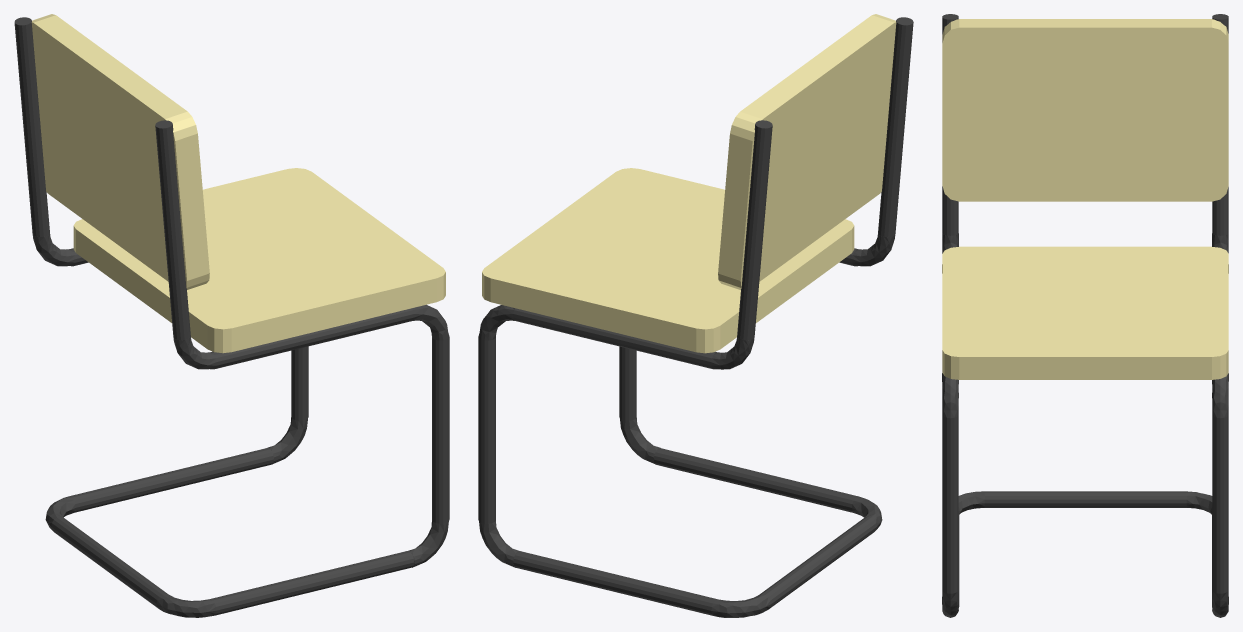
3 renders of one model, left to right at view 1: azimuth 30°, elevation 25°; view 2: azimuth 150°, elevation 25°; view 3: azimuth 270°, elevation 25°, orthographic. The views are drawn at different scales.
Visible parts, largest first — view 1: mesh; view 2: mesh; view 3: mesh.
Boxes of the visible parts, <box> form: mesh: <box>14,14,449,617</box>; mesh: <box>478,14,913,617</box>; mesh: <box>942,14,1228,617</box>.
Size of the model in its own units: 0.4873 by 0.8065 by 0.4326.
